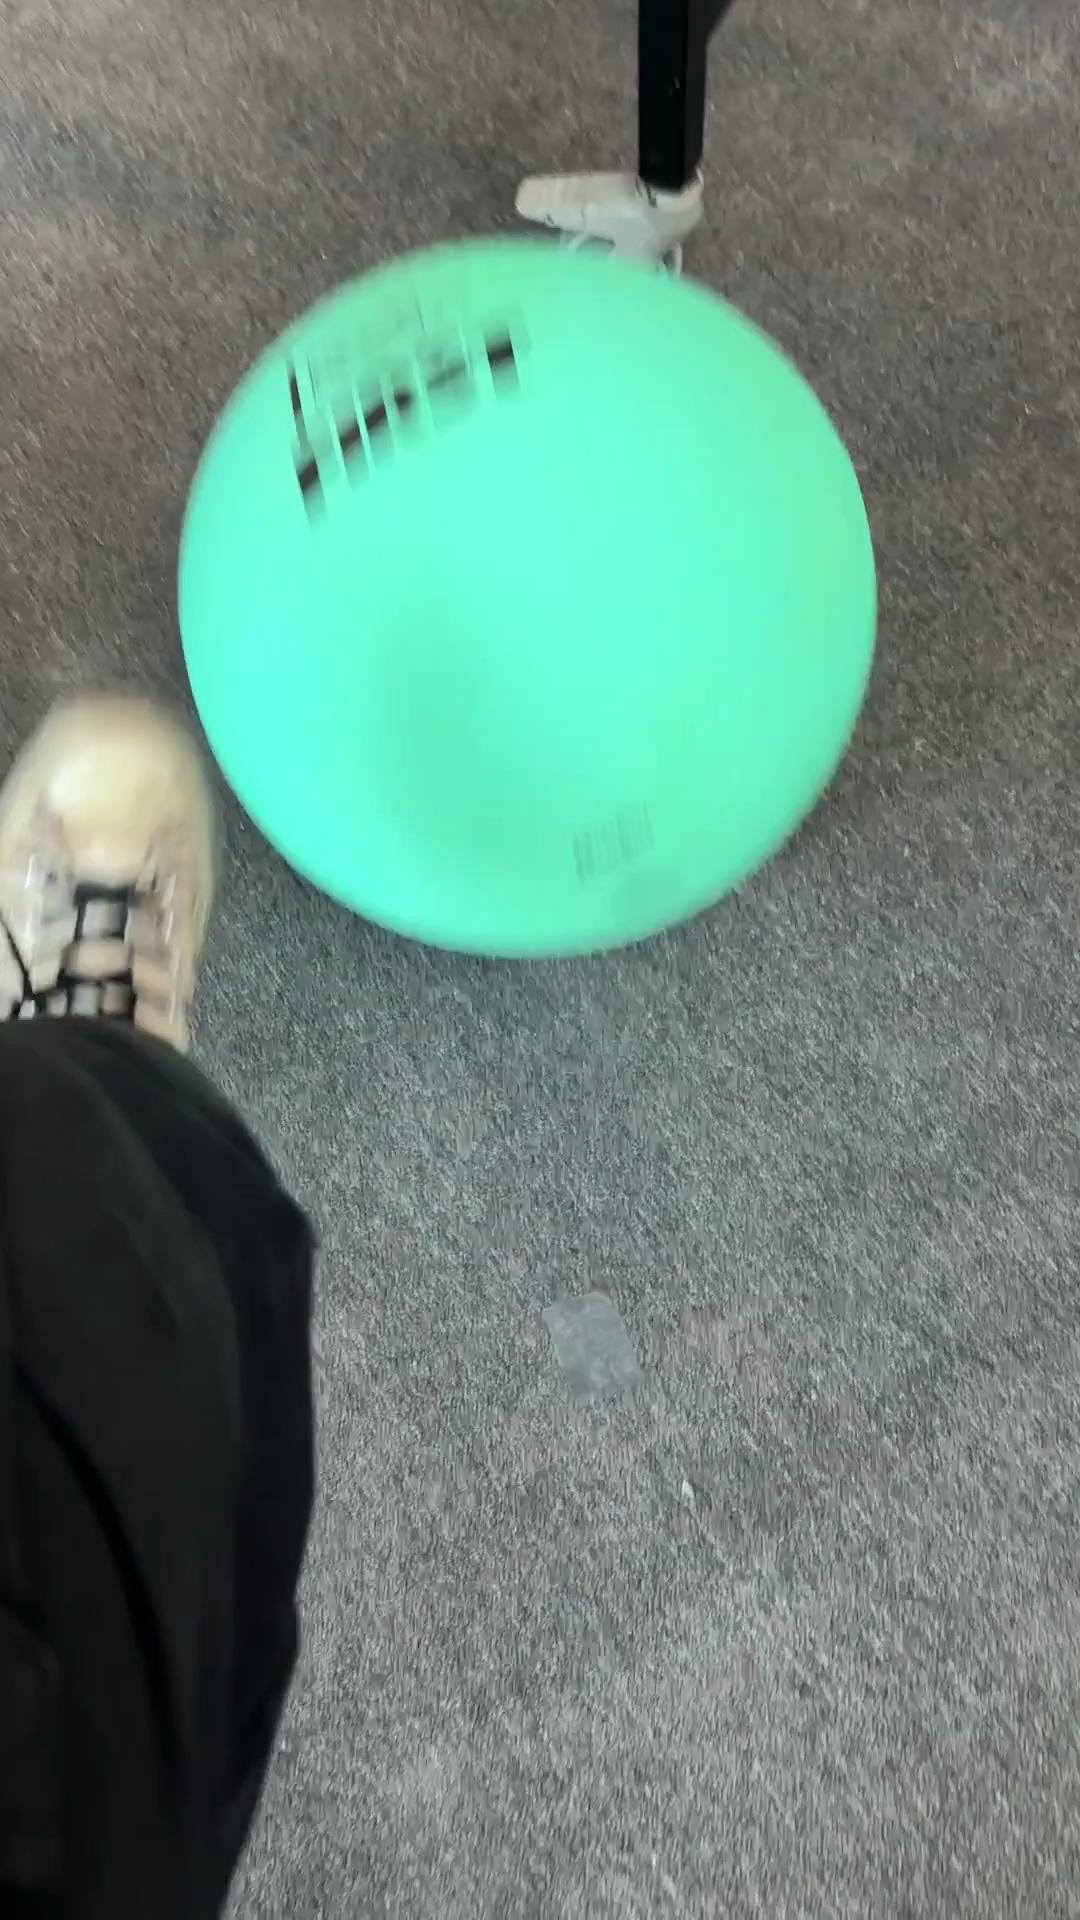ALGAE: (173, 231, 880, 963)
